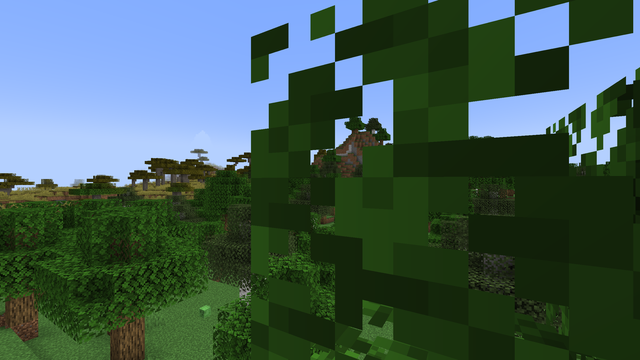slimes: (198, 304, 210, 317)
